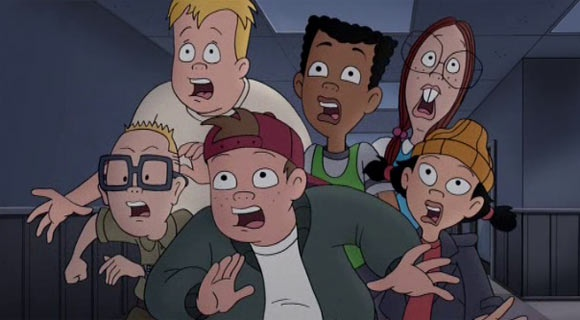bad: (195, 146, 285, 236), (295, 55, 370, 130), (162, 30, 237, 105), (395, 47, 469, 121)
